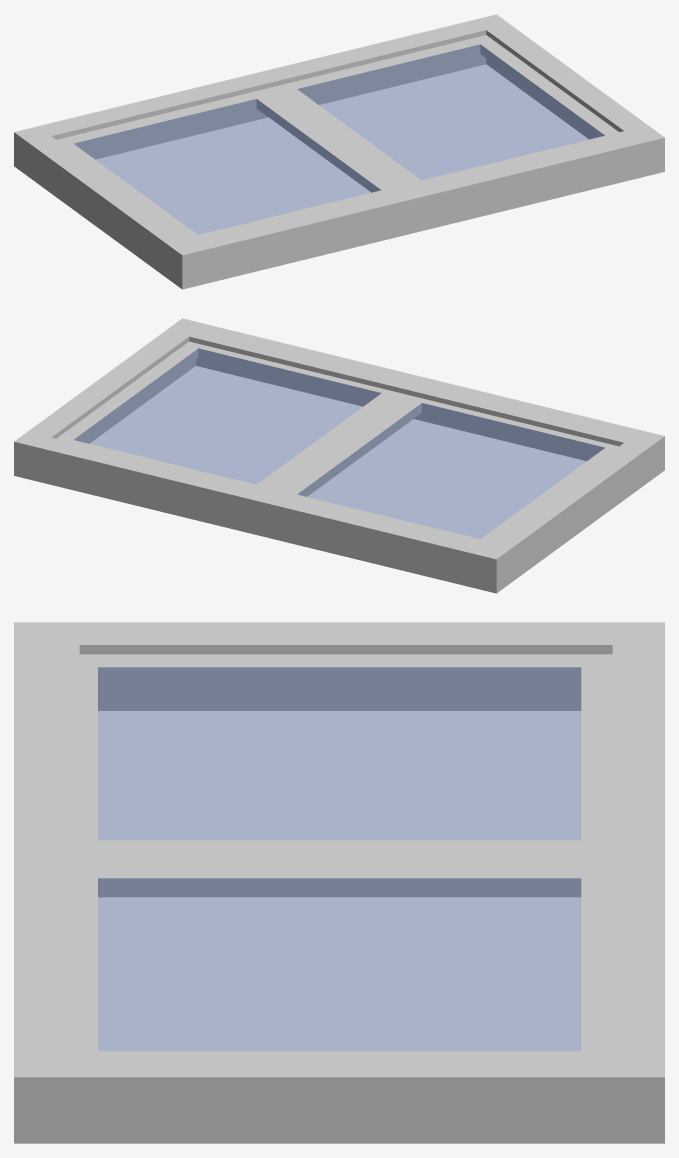
3 views of the same model, one above another, from view 1: azimuth 30°, elevation 25°; view 2: azimuth 150°, elevation 25°; view 3: azimuth 270°, elevation 25° (orthographic). The views are drawn at different scales.
Parts seen in each view (by area): view 1: <组件#66>_1; view 2: <组件#66>_1; view 3: <组件#66>_1.
Part boxes in pixels (x1,y1,x2,y2): <组件#66>_1: (14, 14, 664, 289); <组件#66>_1: (14, 318, 664, 593); <组件#66>_1: (14, 622, 664, 1143).
Bounding box in the file's own units: 40.71 × 2.76 × 24.62.
